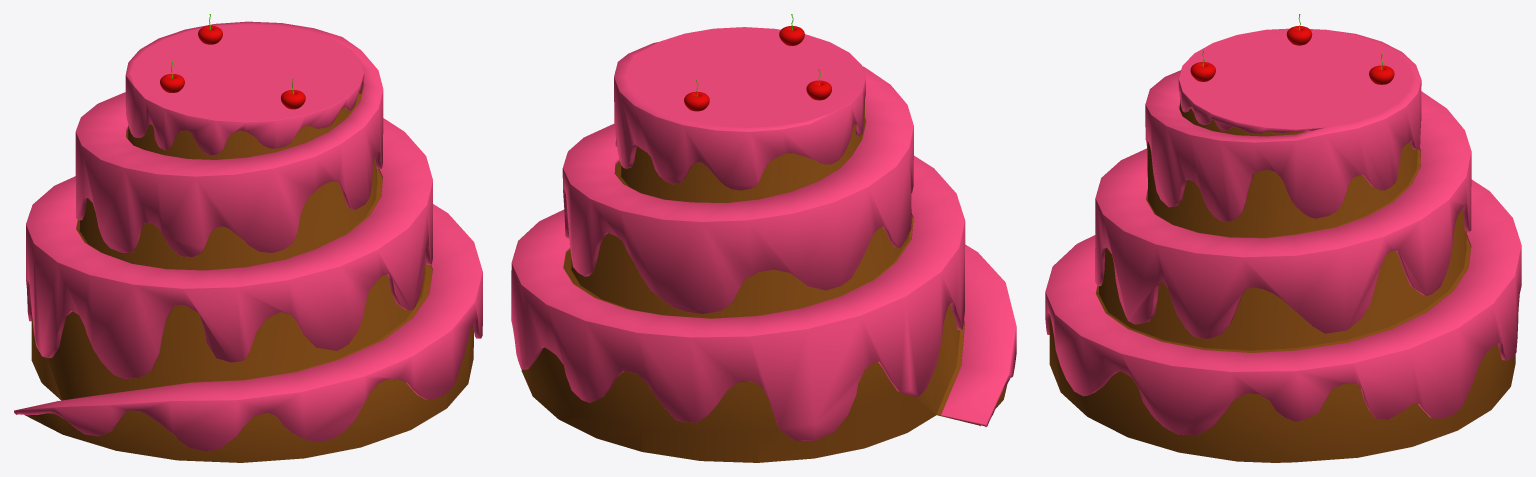
File: SpiralCake.fbx
The picture shows the model from 3 angles, left to right: view 1: azimuth 30°, elevation 25°; view 2: azimuth 150°, elevation 25°; view 3: azimuth 270°, elevation 25°; orthographic projection. The views are drawn at different scales.
Parts seen in each view (by area): view 1: Spiral.001, Spiral; view 2: Spiral.001, Spiral; view 3: Spiral.001, Spiral.
Boxes of the visible parts, x1=… form: Spiral.001: x1=14, y1=21, x2=482, y2=451; Spiral: x1=25, y1=83, x2=473, y2=462; Spiral.001: x1=511, y1=27, x2=1016, y2=440; Spiral: x1=521, y1=102, x2=1006, y2=462; Spiral.001: x1=1045, y1=28, x2=1521, y2=434; Spiral: x1=1049, y1=100, x2=1515, y2=462.
Size of the model in its own units: 4004 by 2752 by 3732.
